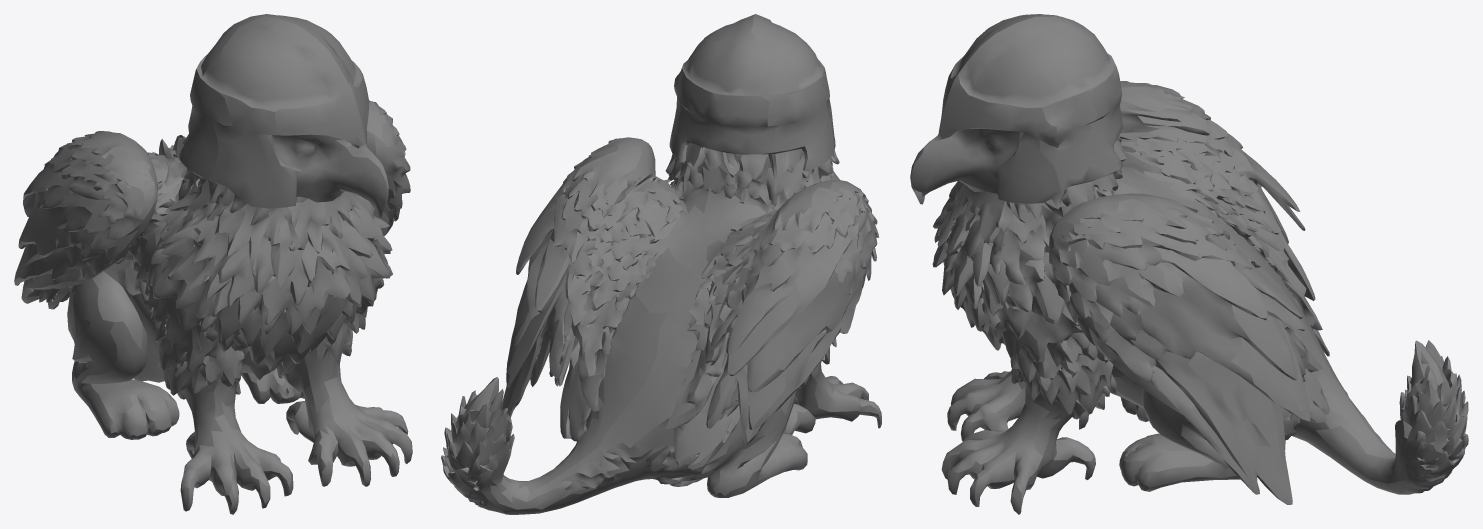
Rendered from completion_griffin_1.glb.
3 renders of one model, left to right at view 1: azimuth 30°, elevation 25°; view 2: azimuth 150°, elevation 25°; view 3: azimuth 270°, elevation 25°, orthographic. The views are drawn at different scales.
Parts seen in each view (by area): view 1: geometry_0; view 2: geometry_0; view 3: geometry_0.
Boxes of the visible parts, left/top/right/bottom form: geometry_0: left=14, top=14, right=412, bottom=514; geometry_0: left=441, top=14, right=881, bottom=514; geometry_0: left=910, top=14, right=1468, bottom=514.
Bounding box in the file's own units: 0.7113 × 0.8747 × 1.
Materials: 1 (1 with a texture image).
